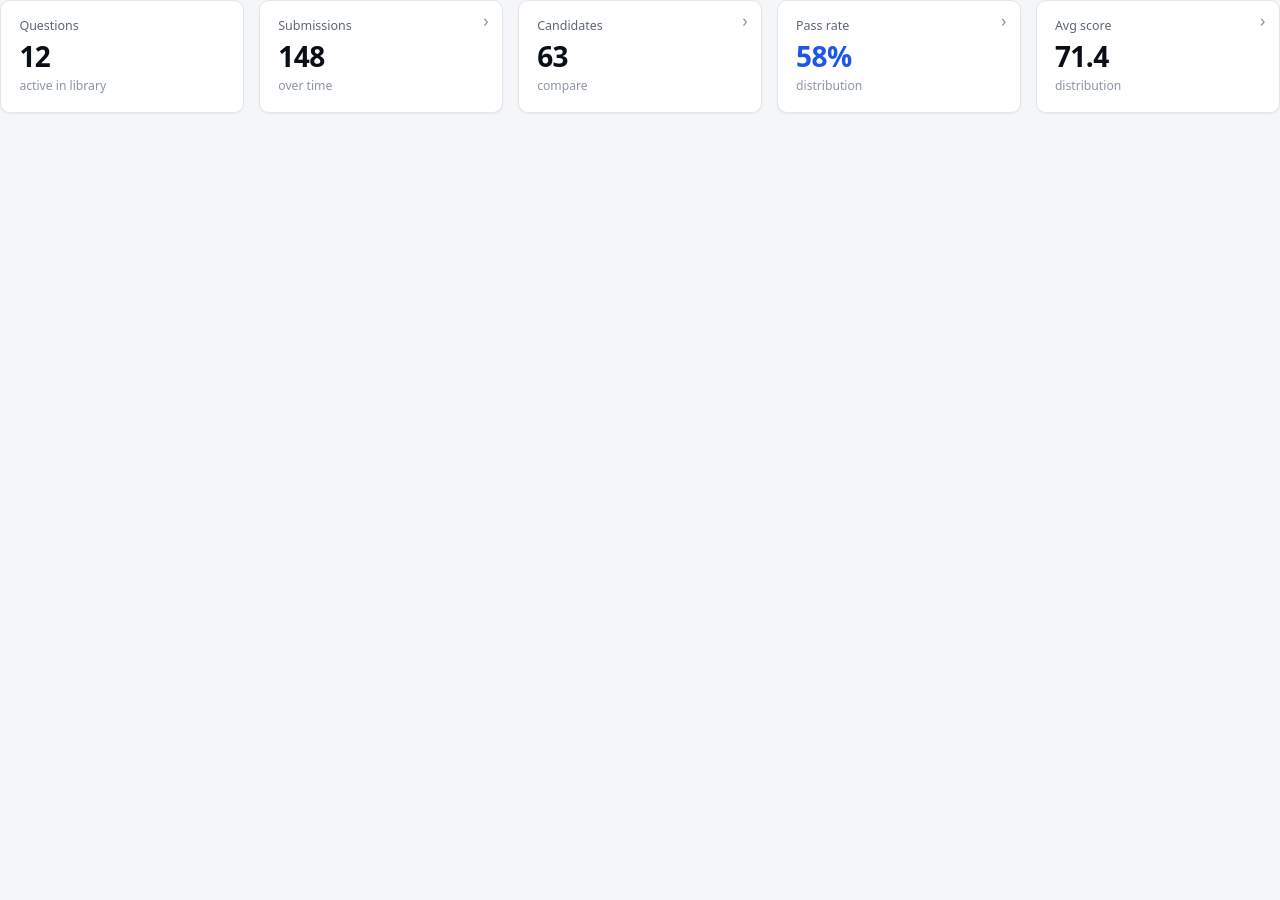
Test: AnalyticsPanel (AR1) › renders the cross-candidate table for the selected assessment
Click the button "Candidates 63 compare": click(640, 56) [518, 0, 762, 112]
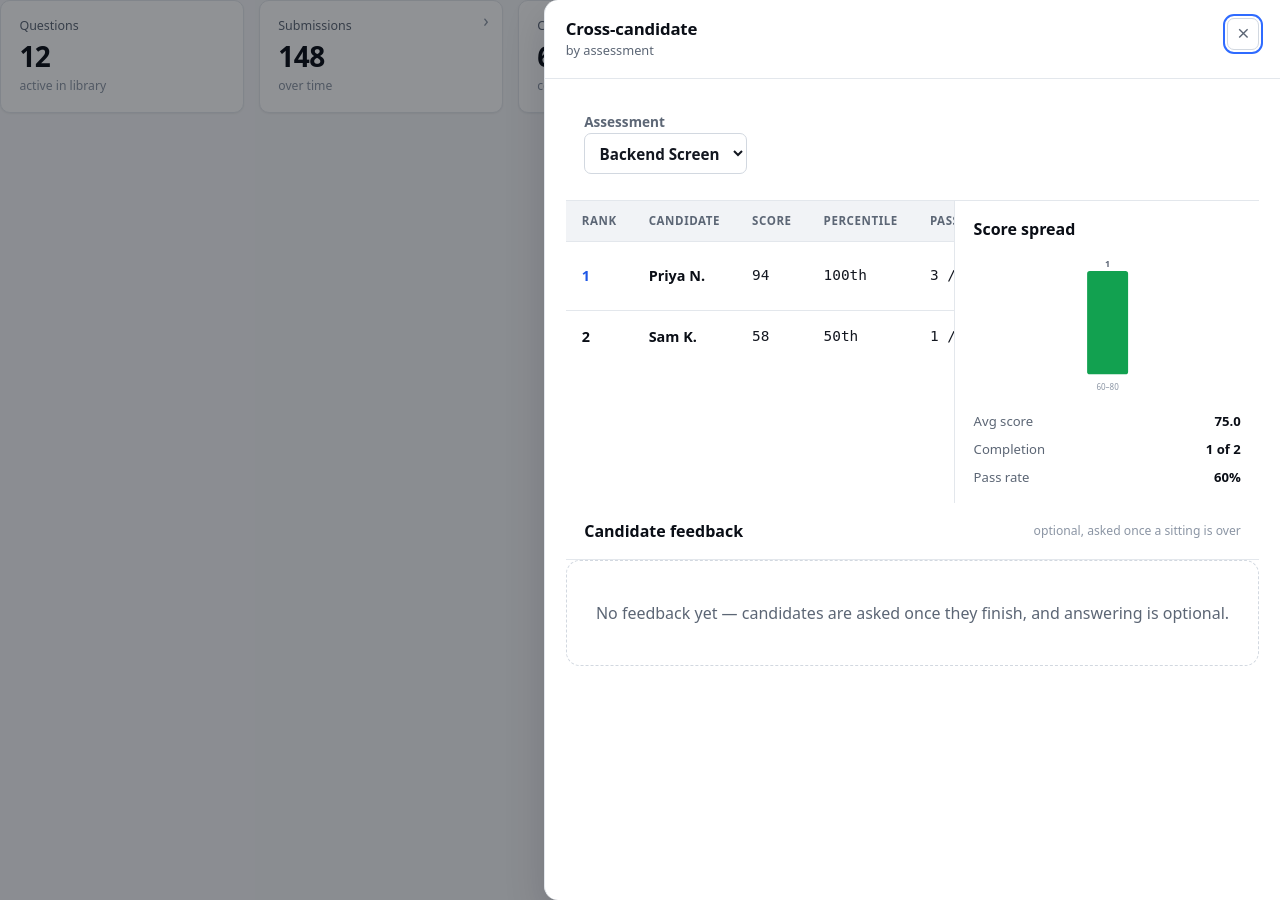
Expected: the text "Priya N." is shown, [633, 242, 736, 311]
Expected: the text "100th" is shown, [808, 242, 914, 311]
